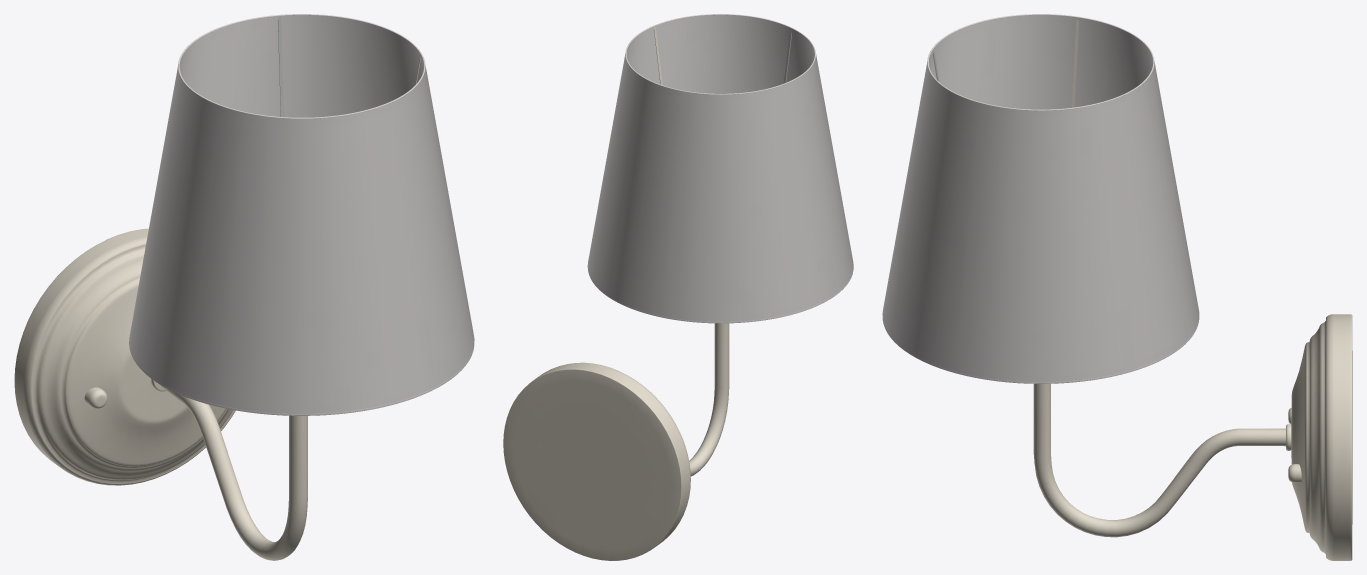
Rendered from abo-B07MBFDJMK.glb.
3 views of the same model, side by side, from view 1: azimuth 30°, elevation 25°; view 2: azimuth 150°, elevation 25°; view 3: azimuth 270°, elevation 25° (orthographic). The views are drawn at different scales.
Size of the model in its own units: 0.184 by 0.312 by 0.272.
1 material, 1 textured.
